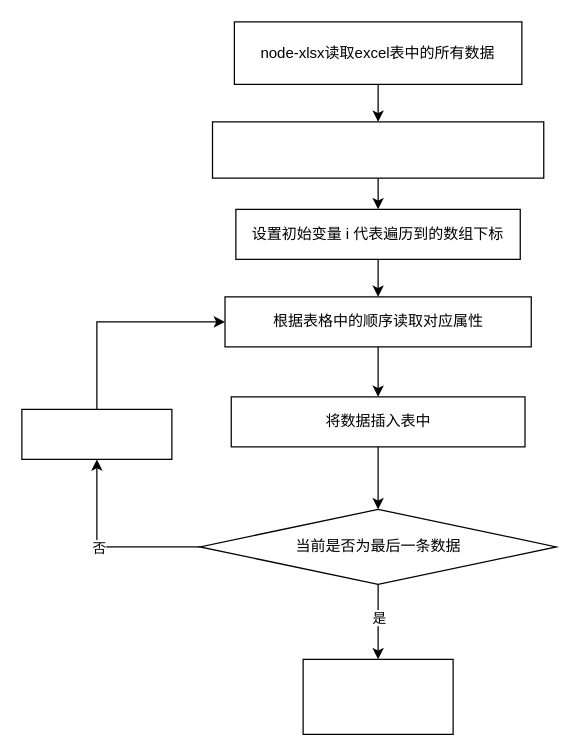
Image size: 579x756. Some labels were removed from this diagram. Here are the shapes that lost their labels. From the top down, the centre of each, then its label:
At (x=377, y=149): "通过typeorm拿到对应表的实体".
At (x=96, y=433): "i ++".
At (x=377, y=696): "结束".
